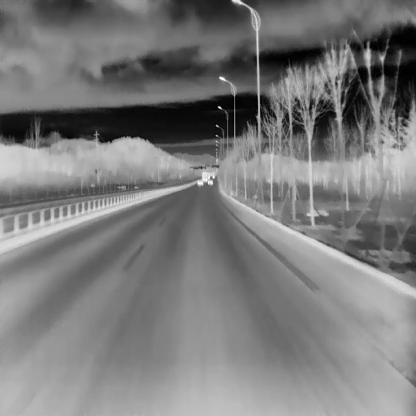car: (202, 172, 208, 182), (197, 179, 202, 184), (208, 179, 213, 184), (208, 171, 210, 179)
